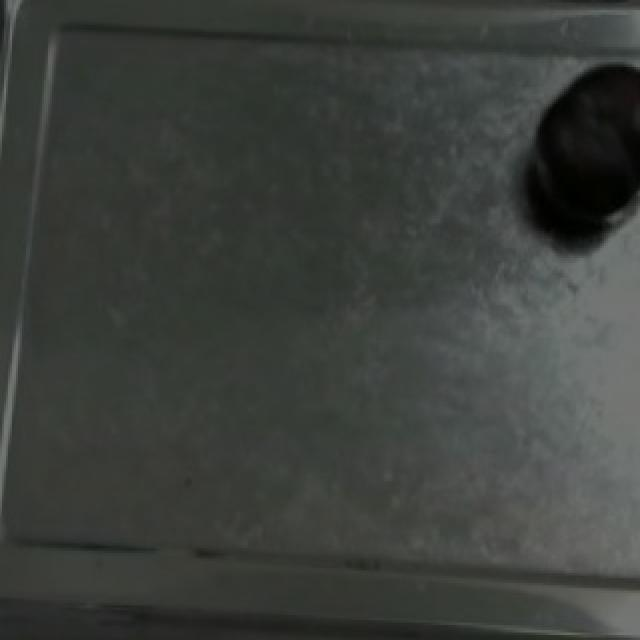Fruit: (520, 47, 640, 248)
